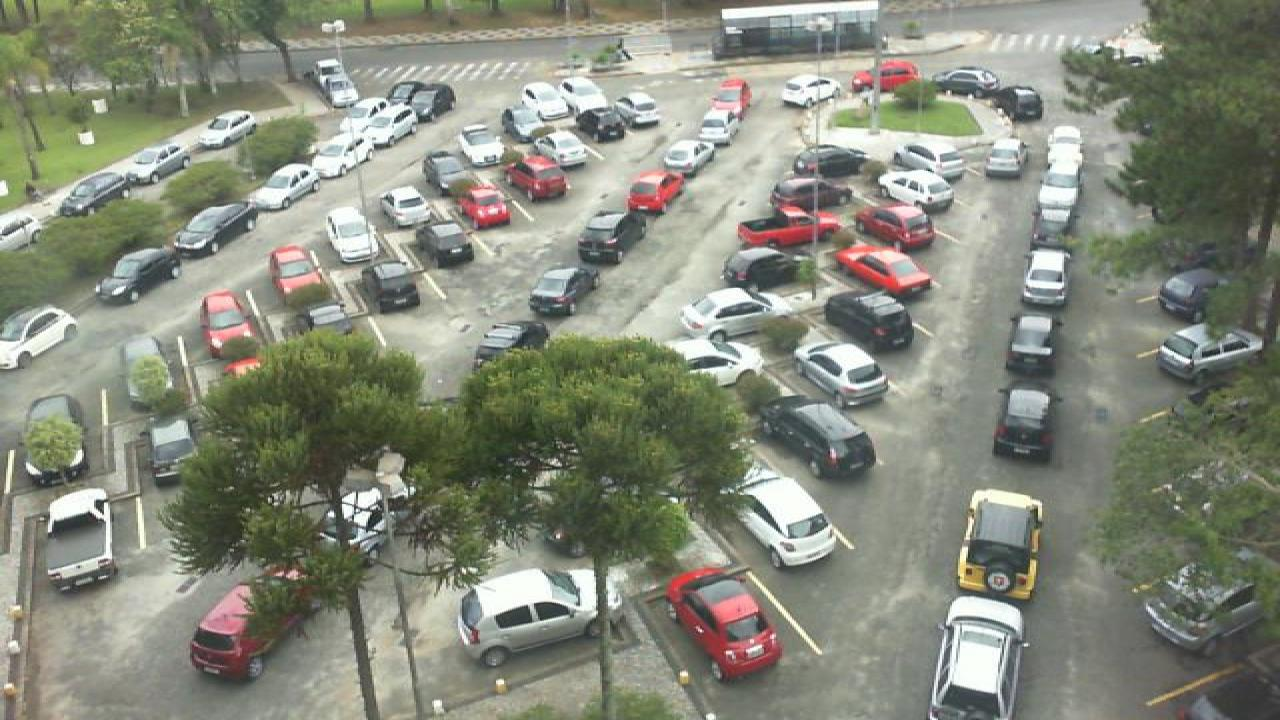Car: (452, 565, 604, 669), (664, 566, 782, 683), (188, 567, 304, 684), (928, 597, 1028, 719), (722, 461, 836, 568), (954, 487, 1044, 601), (762, 393, 878, 481), (42, 488, 120, 594), (18, 393, 92, 490), (1156, 322, 1264, 384), (796, 342, 892, 411), (678, 287, 794, 341), (824, 288, 914, 352), (832, 243, 936, 297), (94, 246, 182, 306), (0, 306, 78, 371), (992, 386, 1056, 463), (170, 202, 258, 255), (736, 208, 844, 250), (672, 340, 766, 388), (198, 290, 258, 360), (854, 204, 940, 252), (472, 320, 550, 372), (578, 212, 650, 266), (1156, 266, 1226, 320), (528, 266, 600, 318), (60, 172, 142, 217), (1006, 314, 1064, 377), (150, 416, 202, 486), (878, 168, 960, 212), (268, 245, 328, 305), (242, 163, 320, 209), (408, 217, 476, 269), (722, 245, 802, 289), (126, 143, 204, 184), (360, 261, 420, 314), (328, 206, 382, 262), (1020, 249, 1072, 307), (454, 180, 514, 230), (508, 153, 570, 201), (790, 143, 870, 178), (628, 171, 688, 217), (772, 174, 848, 210), (888, 142, 960, 180), (310, 137, 372, 180), (194, 109, 258, 147), (420, 150, 476, 192), (356, 119, 418, 155), (850, 58, 918, 90), (1034, 198, 1080, 245), (662, 138, 718, 176), (458, 125, 506, 169), (780, 73, 840, 107), (706, 78, 752, 121), (988, 86, 1044, 121), (930, 66, 1000, 94), (694, 107, 744, 146), (516, 125, 566, 164), (514, 80, 564, 119), (1038, 161, 1084, 202), (562, 75, 608, 116), (576, 108, 628, 144), (982, 137, 1026, 179), (614, 90, 662, 128), (412, 82, 456, 123), (1046, 124, 1086, 168), (316, 73, 362, 108), (500, 106, 546, 140), (380, 82, 424, 112), (342, 95, 386, 124)
